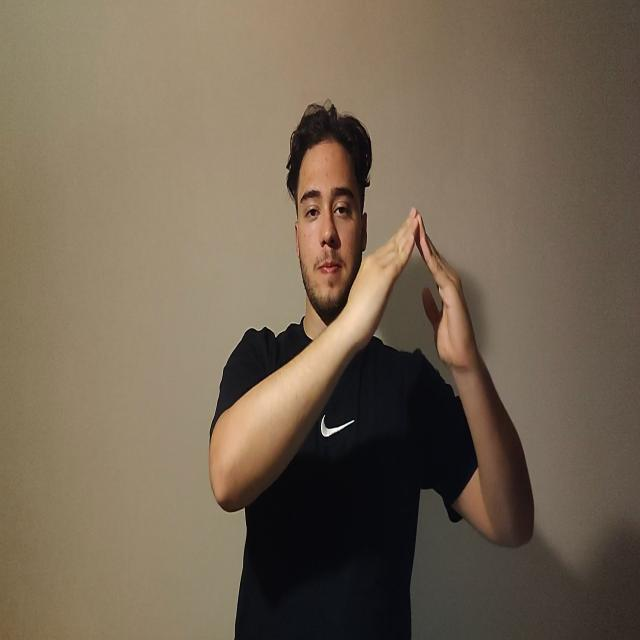house: (348, 204, 475, 370)
